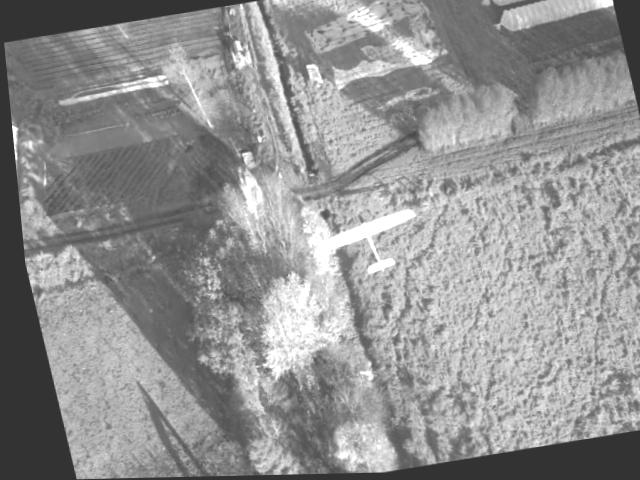hedef: (295, 174, 432, 297)
